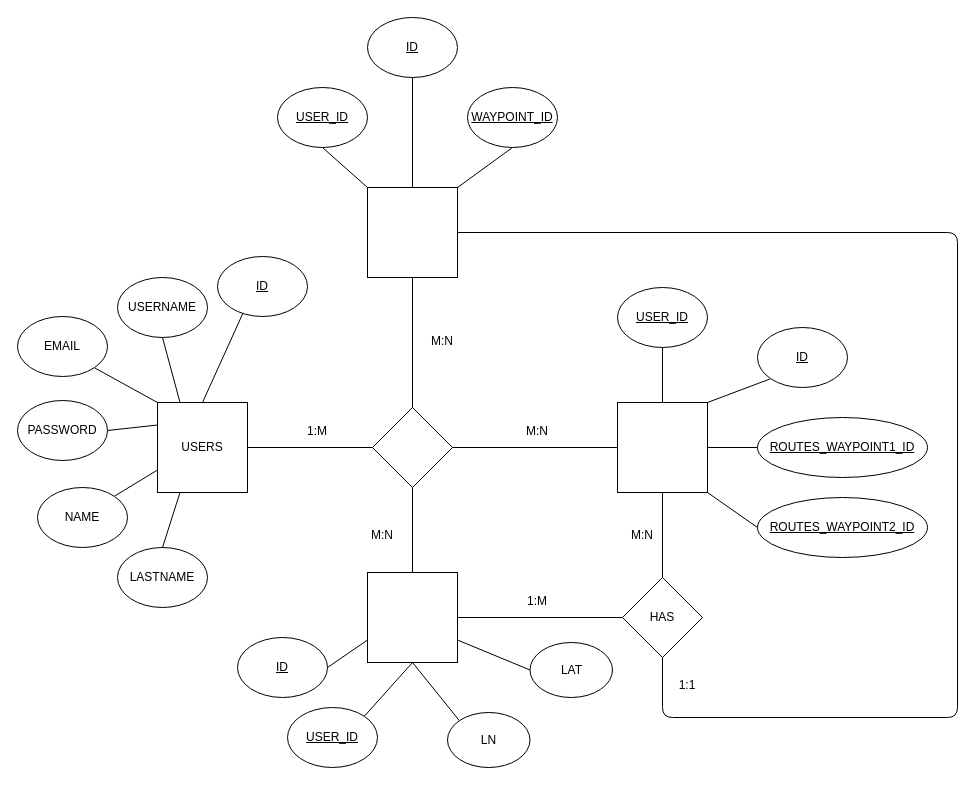
This 976x785 diagram has some shape labels left out. The centre of each missing label's shape, as x and y in pixels:
CREATE: (x=412, y=447)
PLACES: (x=412, y=232)
ROUTES: (x=662, y=447)
WAYPOINT: (x=412, y=617)
